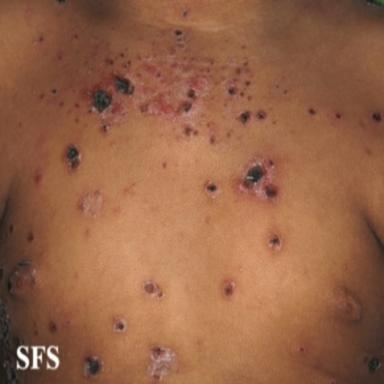Impetigo: (30, 23, 267, 147), (236, 155, 281, 203), (0, 296, 18, 382), (7, 260, 38, 299), (331, 286, 362, 321), (147, 346, 177, 381), (79, 189, 103, 218), (61, 143, 82, 174), (83, 355, 103, 378), (143, 280, 163, 298), (205, 178, 221, 199), (267, 231, 283, 252), (113, 316, 127, 333), (222, 280, 235, 298), (368, 358, 382, 372), (372, 111, 384, 122), (297, 344, 308, 356), (34, 170, 43, 184), (181, 8, 191, 19), (49, 321, 57, 333), (27, 230, 34, 242), (308, 108, 316, 116), (335, 112, 342, 121), (0, 266, 3, 278), (9, 225, 13, 233)
